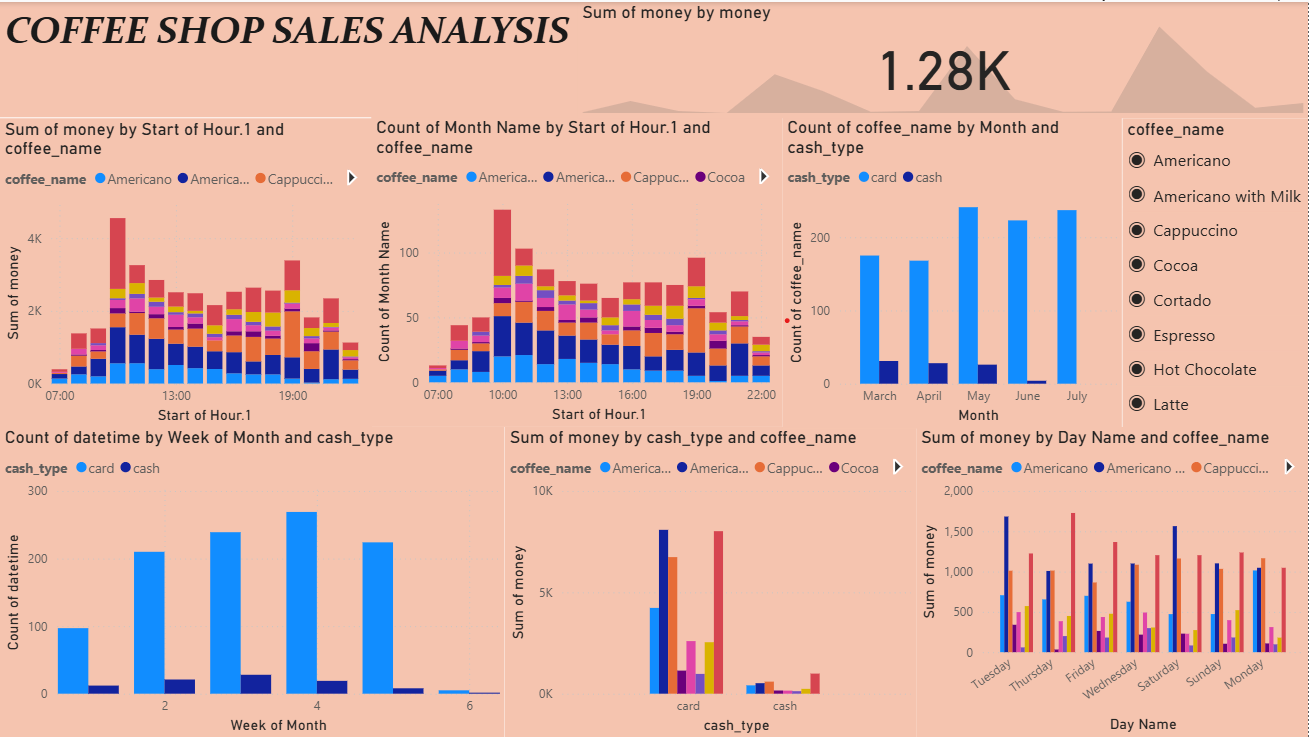

This screenshot's page, from the dashboard's own definition file:
{"tool":"powerbi","page":{"name":"Page 1","canvas":[1280,720],"ordinal":0},"visuals":[{"type":"columnChart","fields":{"Category":["index (1).Start of Hour.1"],"Series":["index (1).coffee_name"],"Y":["Sum(index (1).money)"]},"box":[0,113.9,363.6,303.3],"z":0},{"type":"columnChart","fields":{"Series":["index (1).coffee_name"],"Y":["CountNonNull(index (1).Month Name)"],"Category":["index (1).Start of Hour.1"]},"box":[363.6,112.5,402.1,303.3],"z":1000},{"type":"lineClusteredColumnComboChart","fields":{"Category":["index (1).Week of Month"],"Y":["CountNonNull(index (1).datetime)"],"Series":["index (1).cash_type"]},"box":[0,415.8,494,304.6],"z":2000},{"type":"clusteredColumnChart","fields":{"Category":["index (1).cash_type"],"Y":["Sum(index (1).money)"],"Series":["index (1).coffee_name"]},"box":[494,415.8,402.1,304.6],"z":3000},{"type":"clusteredColumnChart","fields":{"Y":["CountNonNull(index (1).coffee_name)"],"Series":["index (1).cash_type"],"Category":["index (1).datetime.Variation.Date Hierarchy.Month"]},"box":[765.7,112.5,332.1,304.6],"z":4000},{"type":"clusteredColumnChart","fields":{"Category":["index (1).Day Name"],"Y":["Sum(index (1).money)"],"Series":["index (1).coffee_name"]},"box":[896,416,384,304],"z":5000},{"type":"textbox","box":[0,0,596.9,112.5],"z":6000},{"type":"kpi","fields":{"Indicator":["Sum(index (1).money)"],"TrendLine":["index (1).money"]},"box":[564.9,0,715.4,113.7],"z":7000},{"type":"listSlicer","fields":{"Values":["index (1).coffee_name"]},"box":[1097.8,113.9,182.5,303.3],"z":8000}]}

Visuals, with their boxes in screenshot pixels (x1, y1, x2, y2), scaled from the page's 1280x720 canvas onto the 1309x737 screenshot:
columnChart - index (1).Start of Hour.1 x index (1).coffee_name: x1=0, y1=117, x2=372, y2=427
columnChart - index (1).coffee_name x CountNonNull(index (1).Month Name): x1=372, y1=115, x2=783, y2=426
lineClusteredColumnComboChart - index (1).Week of Month x CountNonNull(index (1).datetime): x1=0, y1=426, x2=505, y2=736
clusteredColumnChart - index (1).cash_type x Sum(index (1).money): x1=505, y1=426, x2=916, y2=736
clusteredColumnChart - CountNonNull(index (1).coffee_name) x index (1).cash_type: x1=783, y1=115, x2=1123, y2=427
clusteredColumnChart - index (1).Day Name x Sum(index (1).money): x1=916, y1=426, x2=1308, y2=736
textbox: x1=0, y1=0, x2=610, y2=115
kpi - Sum(index (1).money) x index (1).money: x1=578, y1=0, x2=1308, y2=116
listSlicer - index (1).coffee_name: x1=1123, y1=117, x2=1308, y2=427
